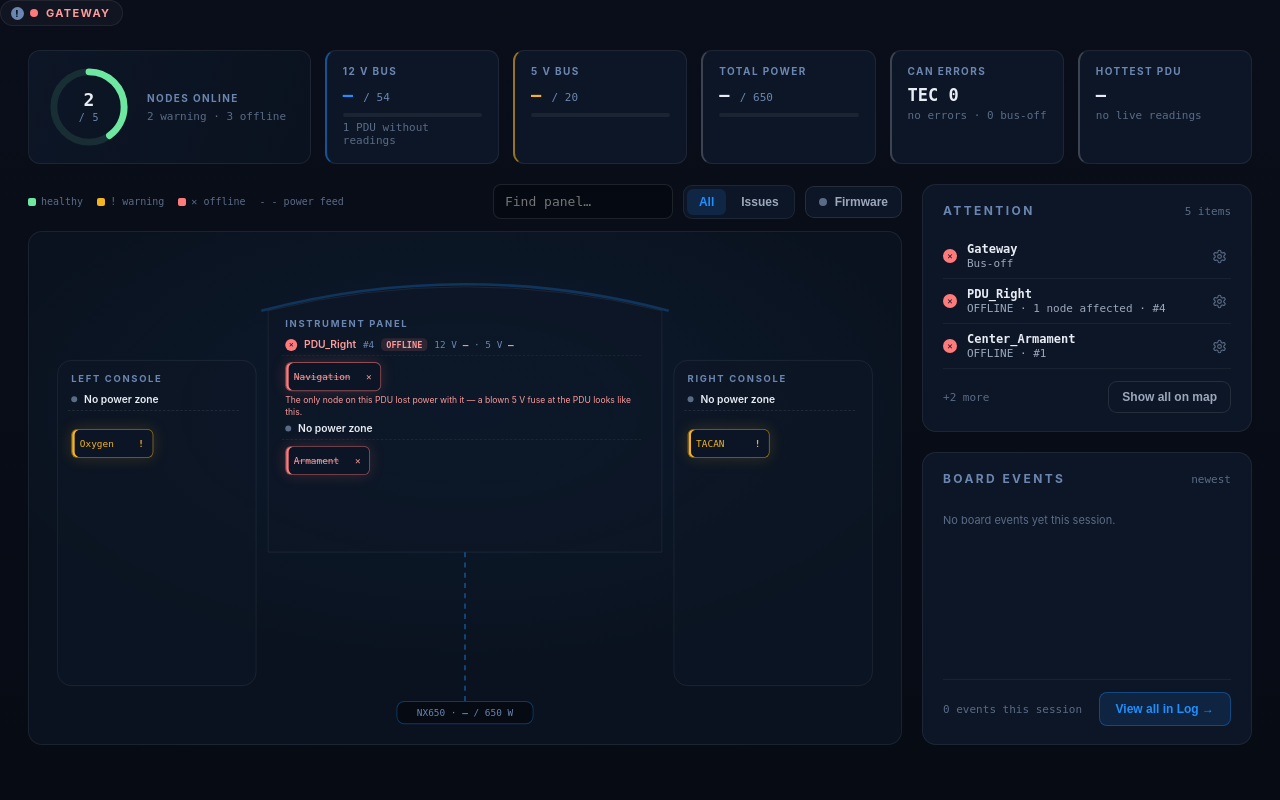
Test: T2 Cockpit › Attention: order and Gateway (B65, B42, B37) › the Gateway cog opens the Device popover
Click the button named "Gateway details". click: point(1220, 256)
box: [1208,244,1231,268]
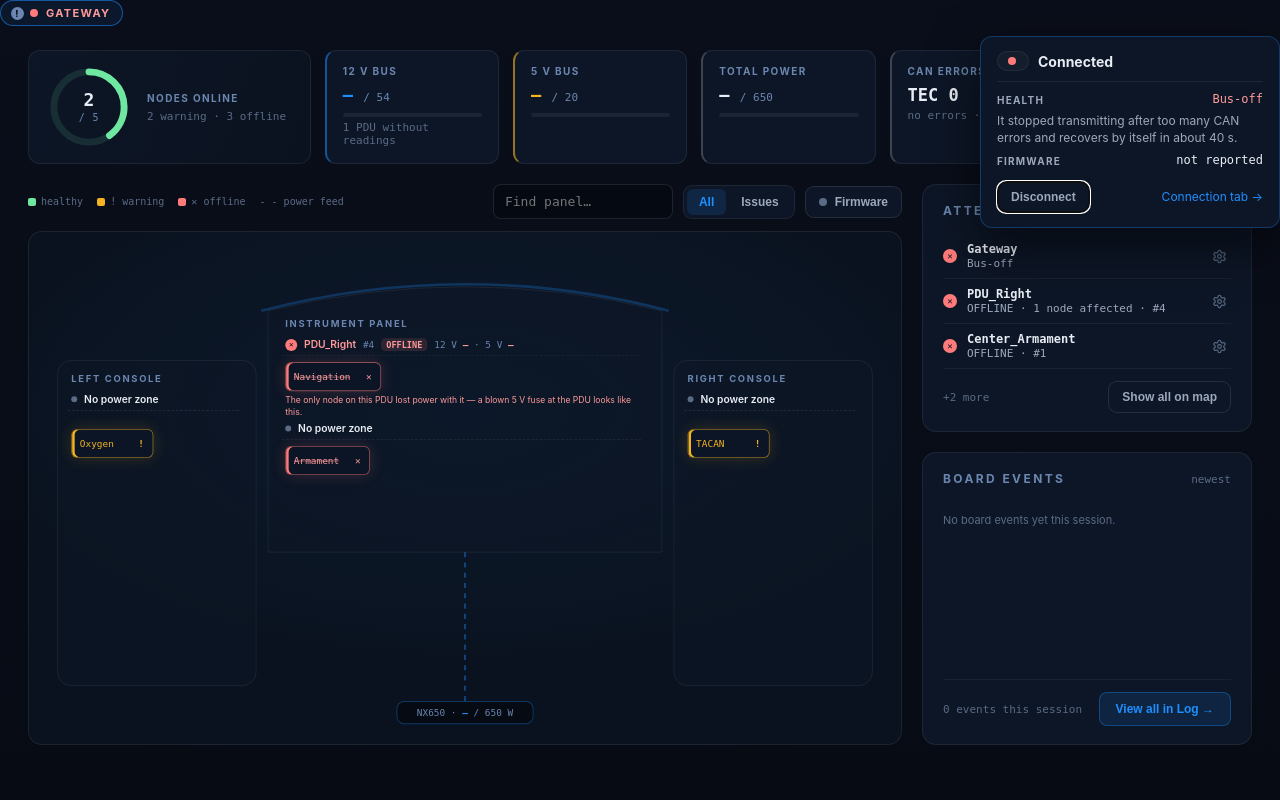
Expected: the text "Bus-off" is shown, [1212,92,1263,106]
